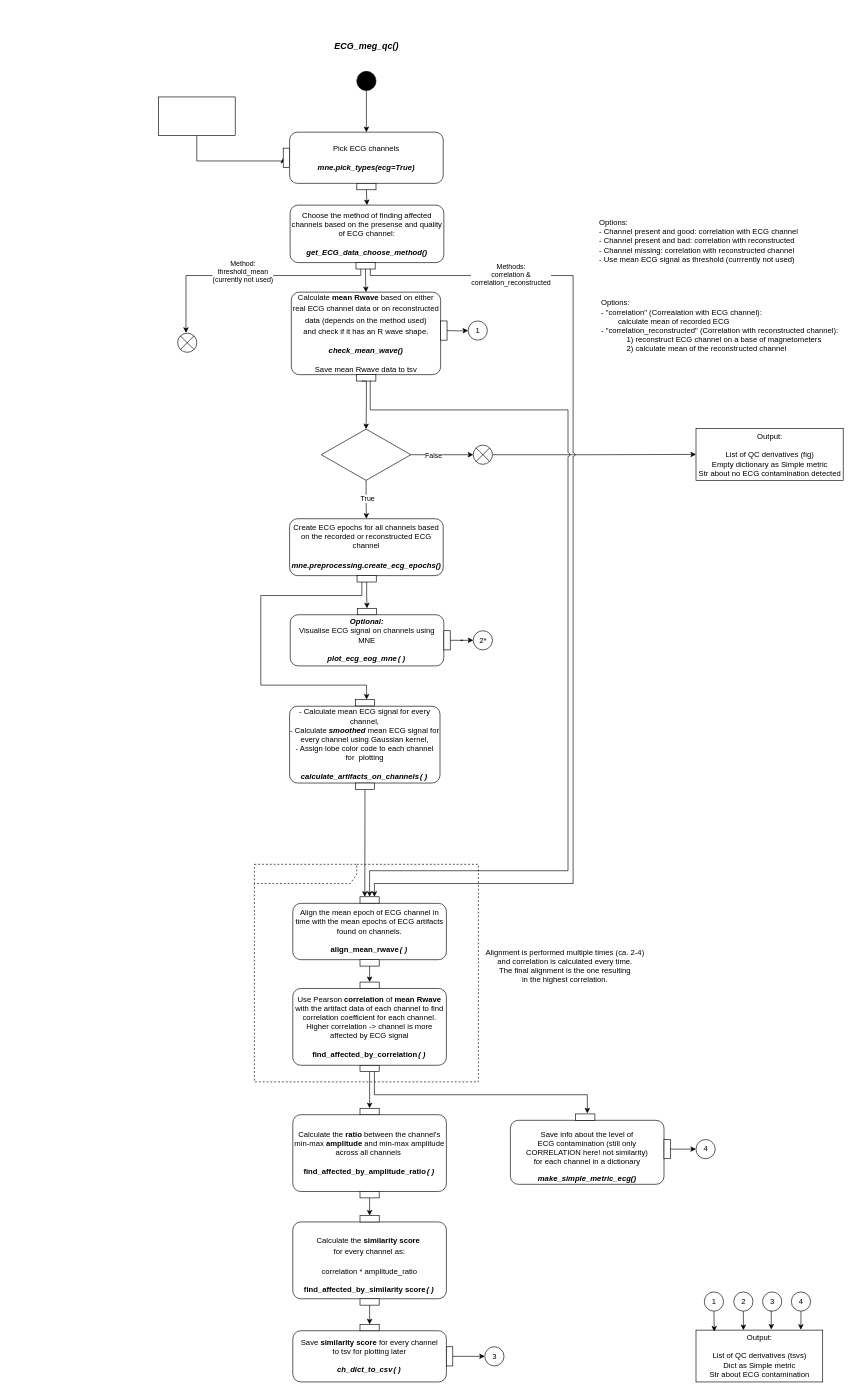
Image size: 860x1393. Some labels were removed from this diagram. The shapes that lost their labels are listed below. From the top down, each one's box as (x1, y1, x2, y2) in pixels, then its label:
(158, 96, 235, 135): Input: Raw data, Config parameters
(321, 428, 411, 480): Mean R wave is good?
(254, 864, 478, 1082): For all possible ECG alignment variations:
